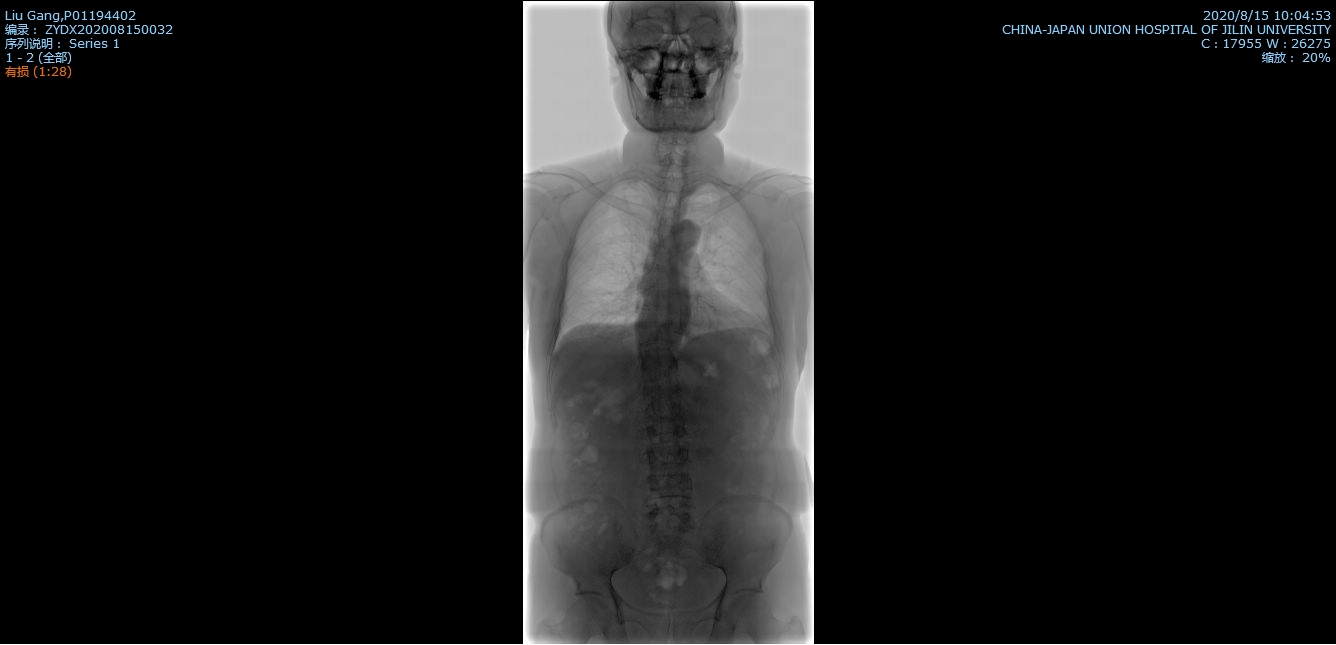Bone: (648, 500, 693, 521), (648, 475, 690, 492), (647, 423, 685, 441), (645, 358, 677, 378), (650, 449, 687, 466), (644, 385, 680, 402), (648, 405, 681, 419)
